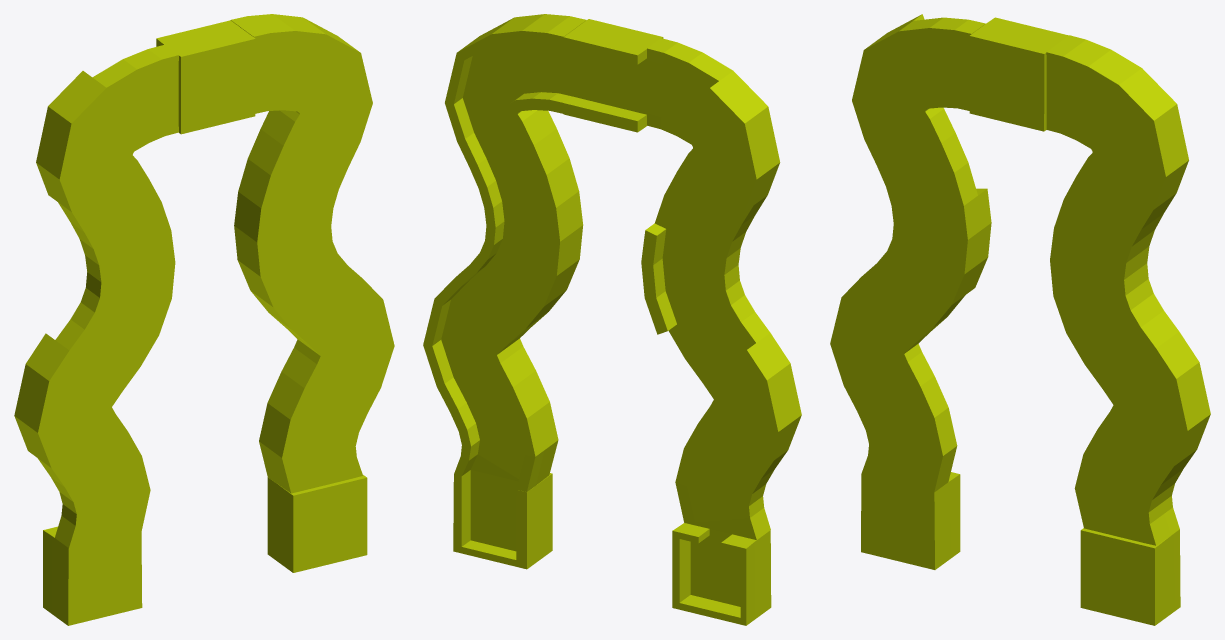
Rendered from Stage2.fbx.
3 renders of one model, left to right at view 1: azimuth 30°, elevation 25°; view 2: azimuth 150°, elevation 25°; view 3: azimuth 330°, elevation 25°, orthographic.
Parts seen in each view (by area): view 1: Cube; view 2: Cube; view 3: Cube.
Part boxes in pixels (<box>): Cube: <box>14,14,394,625</box>; Cube: <box>423,14,801,625</box>; Cube: <box>830,14,1210,625</box>.
Size of the model in its own units: 964 by 1405 by 131.
